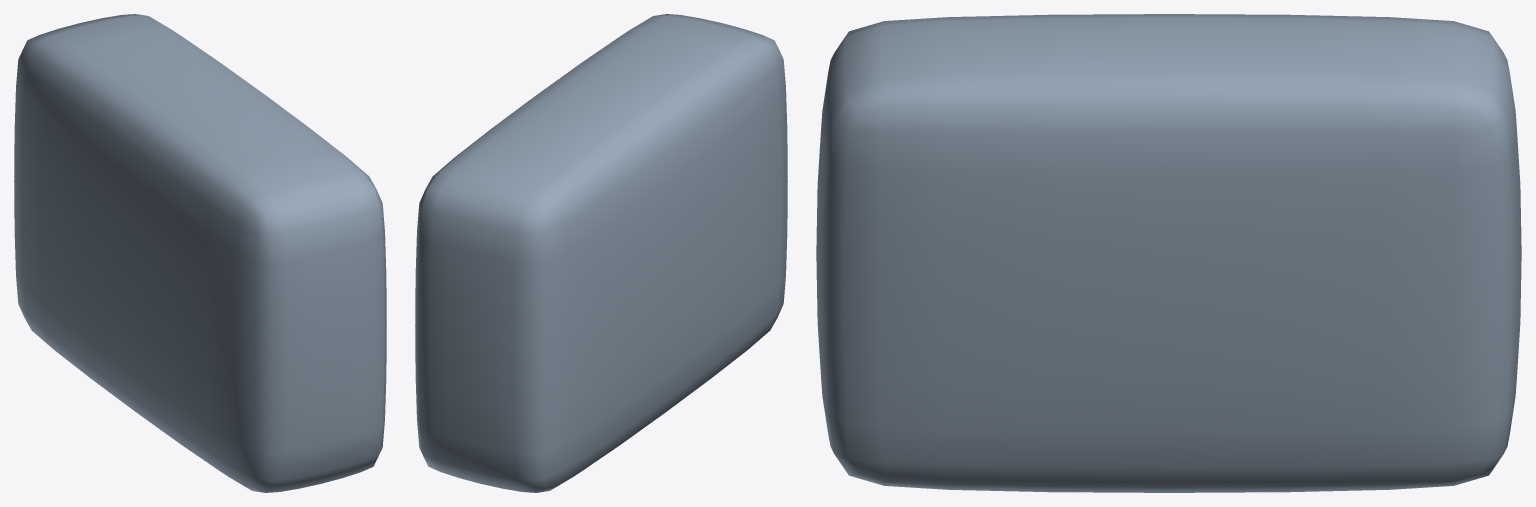
The model's file is Simple_Button_Large_Round.fbx.
3 renders of one model, left to right at view 1: azimuth 30°, elevation 25°; view 2: azimuth 150°, elevation 25°; view 3: azimuth 270°, elevation 25°, orthographic. The views are drawn at different scales.
Parts seen in each view (by area): view 1: Cube; view 2: Cube; view 3: Cube.
Boxes of the visible parts, left/top/right/bottom form: Cube: left=14, top=14, right=386, bottom=492; Cube: left=415, top=14, right=787, bottom=492; Cube: left=816, top=14, right=1521, bottom=492.
Bounding box in the file's own units: 15.04 × 29.04 × 43.59.
